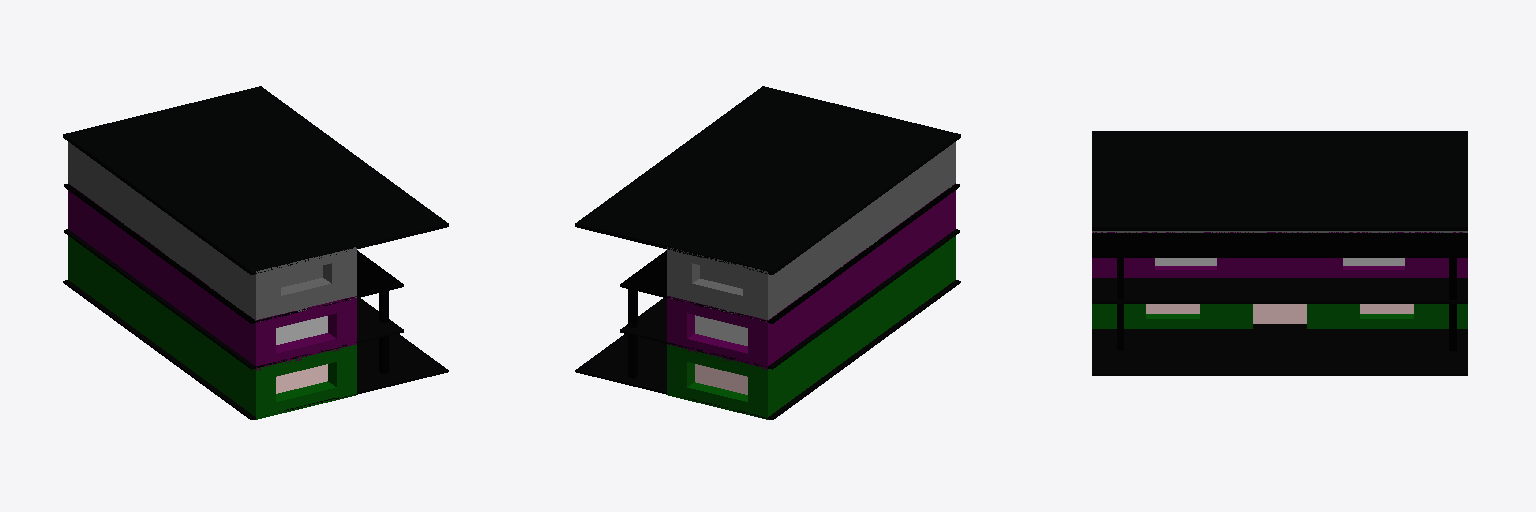
File: gedung3.obj
The picture shows the model from 3 angles: view 1: azimuth 30°, elevation 25°; view 2: azimuth 150°, elevation 25°; view 3: azimuth 270°, elevation 25°; orthographic projection.
Visible parts, largest first — view 1: tralis_2, lantai_1, lantai_3, lantai_2, tralis_4, tralis_3, tralis_1, penyangga_1; view 2: tralis_2, lantai_1, lantai_3, lantai_2, tralis_4, tralis_3, tralis_1, penyangga_2; view 3: tralis_2, tralis_4, tralis_1, tralis_3, lantai_1, lantai_2, penyangga_2, penyangga_1, lantai_3.
Part boxes in pixels (bbox=[...]): tralis_2: bbox=[63, 86, 448, 274]; lantai_1: bbox=[68, 236, 356, 419]; lantai_3: bbox=[68, 142, 356, 321]; lantai_2: bbox=[68, 183, 356, 370]; tralis_4: bbox=[63, 280, 448, 419]; tralis_3: bbox=[64, 184, 403, 323]; tralis_1: bbox=[64, 229, 403, 369]; penyangga_1: bbox=[379, 291, 388, 373]; tralis_2: bbox=[575, 86, 960, 274]; lantai_1: bbox=[667, 236, 955, 419]; lantai_3: bbox=[667, 142, 955, 321]; lantai_2: bbox=[667, 183, 955, 369]; tralis_4: bbox=[575, 280, 960, 419]; tralis_3: bbox=[620, 184, 959, 323]; tralis_1: bbox=[620, 229, 959, 369]; penyangga_2: bbox=[628, 289, 637, 378]; tralis_2: bbox=[1092, 131, 1467, 230]; tralis_4: bbox=[1092, 324, 1467, 375]; tralis_1: bbox=[1092, 278, 1467, 303]; tralis_3: bbox=[1092, 233, 1467, 257]; lantai_1: bbox=[1092, 304, 1467, 328]; lantai_2: bbox=[1092, 232, 1467, 277]; penyangga_2: bbox=[1449, 258, 1456, 350]; penyangga_1: bbox=[1117, 258, 1123, 350]; lantai_3: bbox=[1092, 231, 1467, 232].
Bounding box in the file's own units: 61.46 × 45.88 × 101.